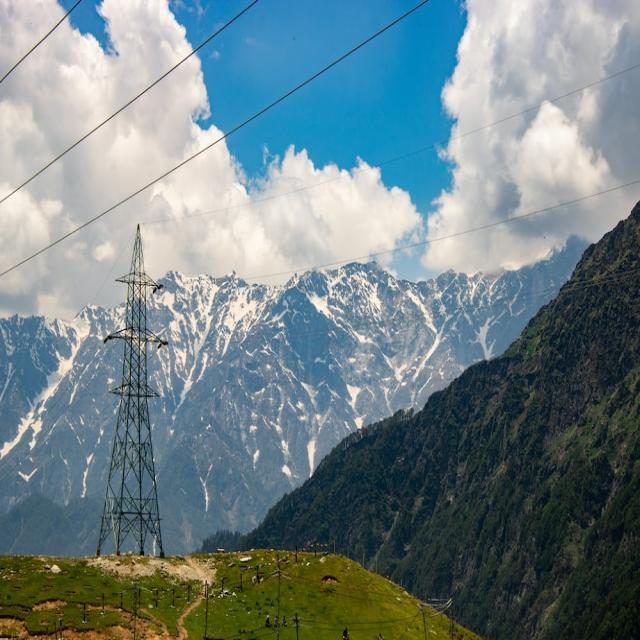transmission tower: (97, 213, 203, 579)
